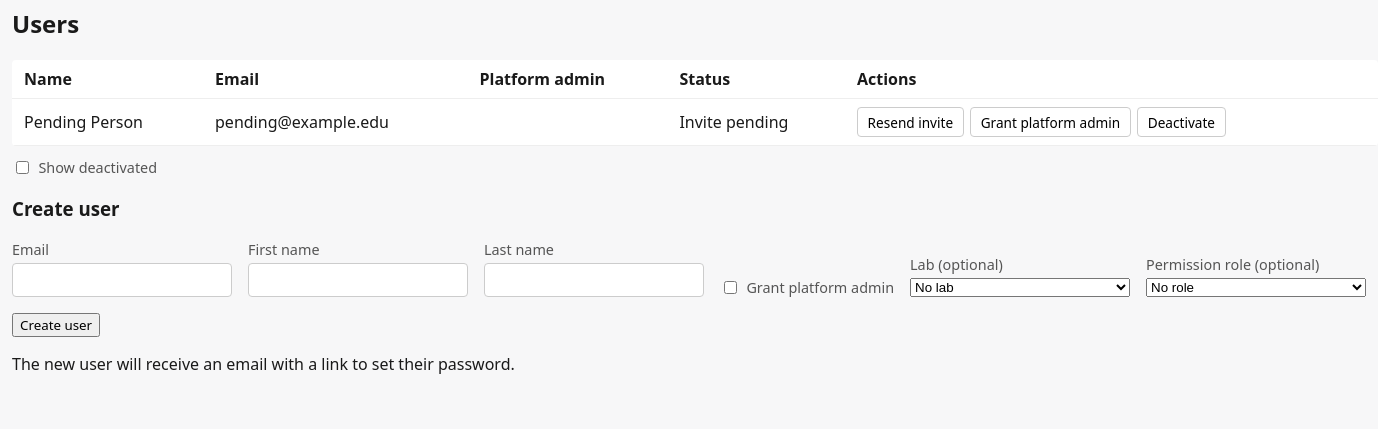
Test case: AdminUsers platform-admin action › shows a notice when changing platform-admin status fails
The image size is (1378, 429).
Click the button "Grant platform admin".
click(1050, 122)  # box [970,107,1131,137]
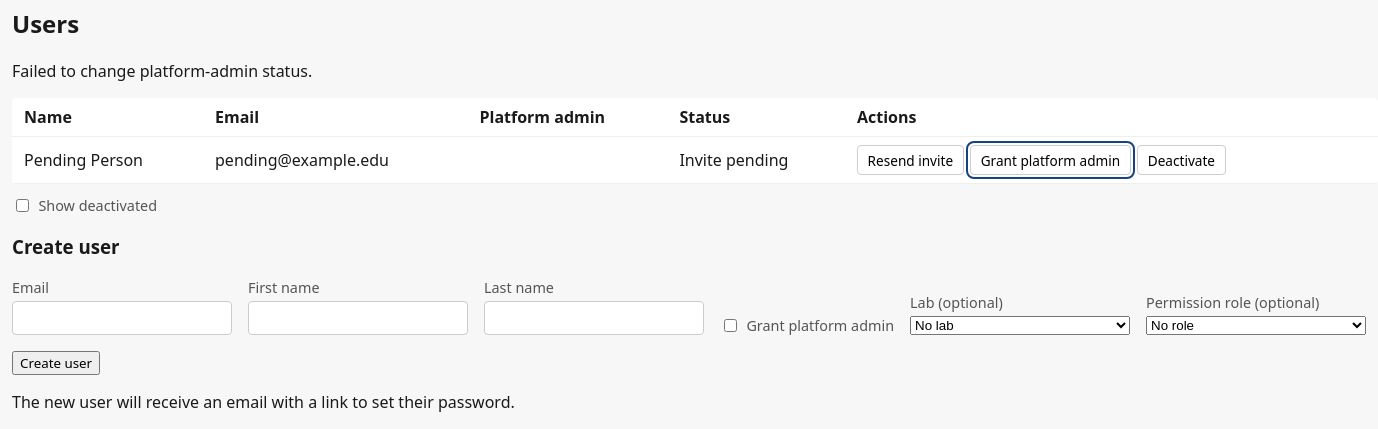
Expected: the message reads "Failed to change platform-admin status.", [12,60,312,82]
